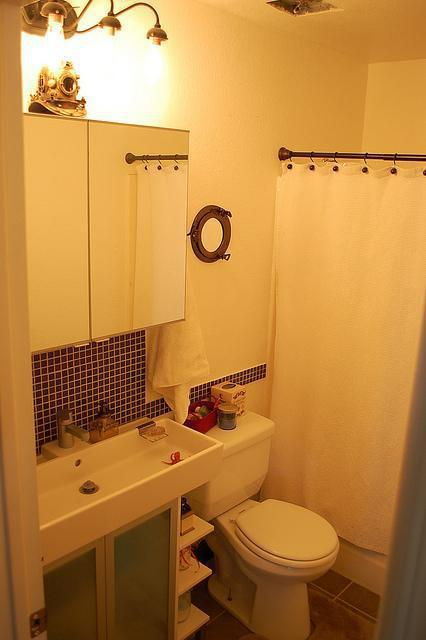Ducha: (278, 142, 425, 607)
Lavamanos: (0, 392, 207, 570)
Sanitario: (163, 396, 332, 639)
